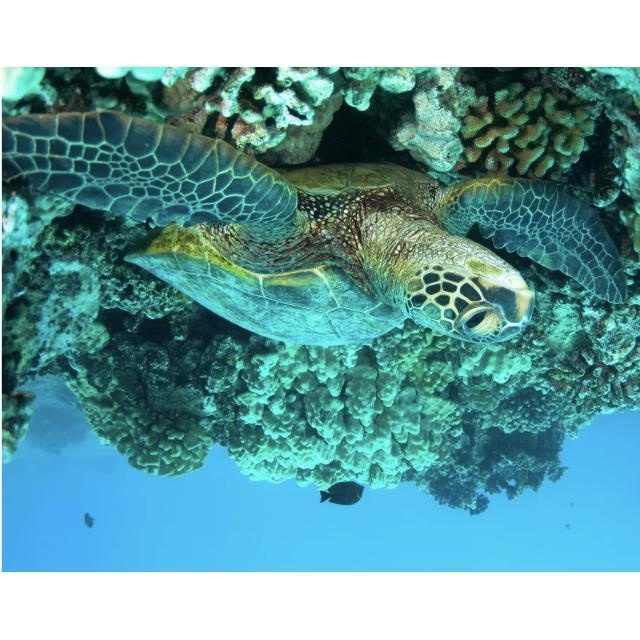turtle: (2, 111, 627, 348)
